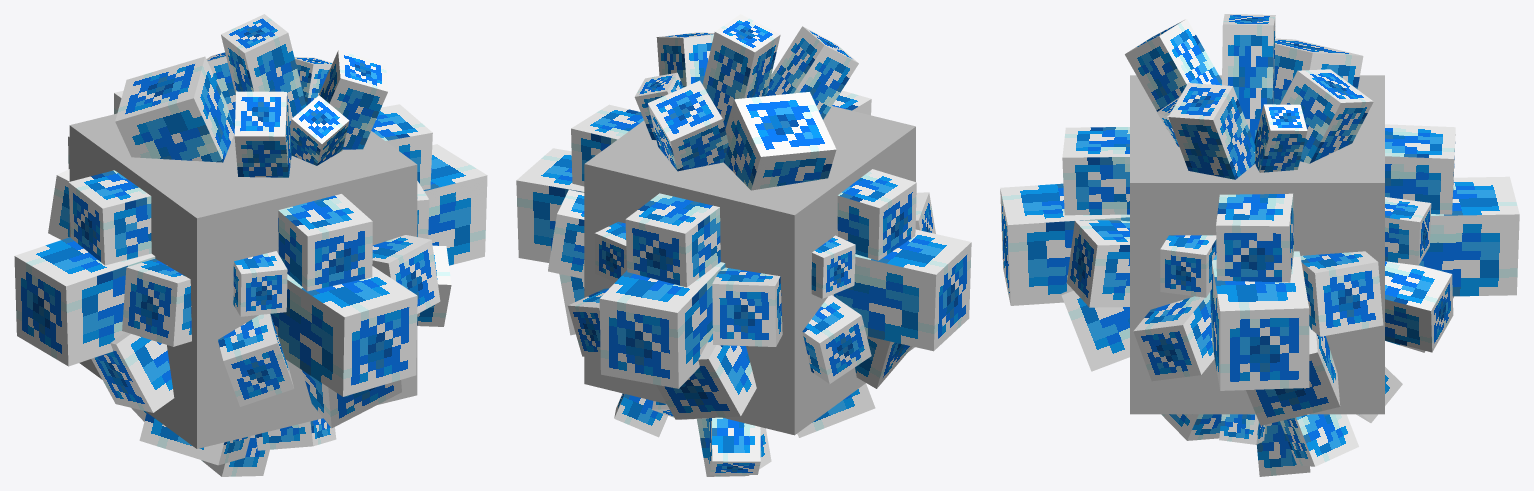
Rendered from sapphire_deepslate_ore_v6.obj.
3 renders of one model, left to right at view 1: azimuth 30°, elevation 25°; view 2: azimuth 150°, elevation 25°; view 3: azimuth 270°, elevation 25°, orthographic. The views are drawn at different scales.
Bounding box in the file's own units: 1.98 × 1.97 × 2.04.
